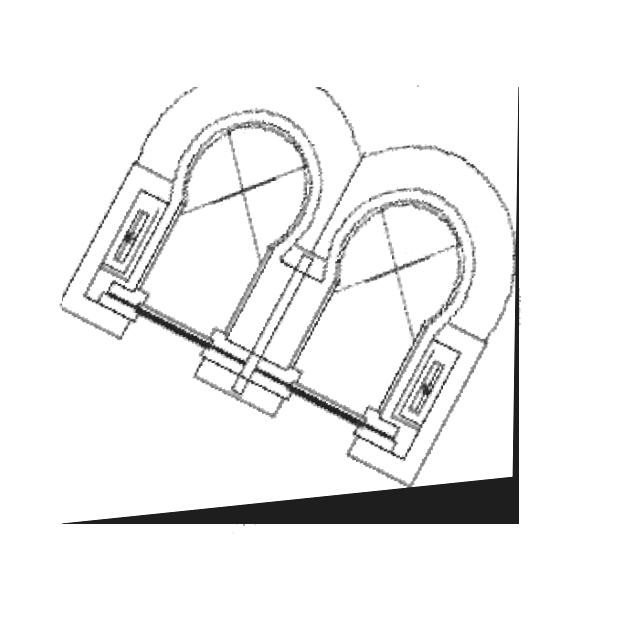lift: (62, 87, 519, 524)
